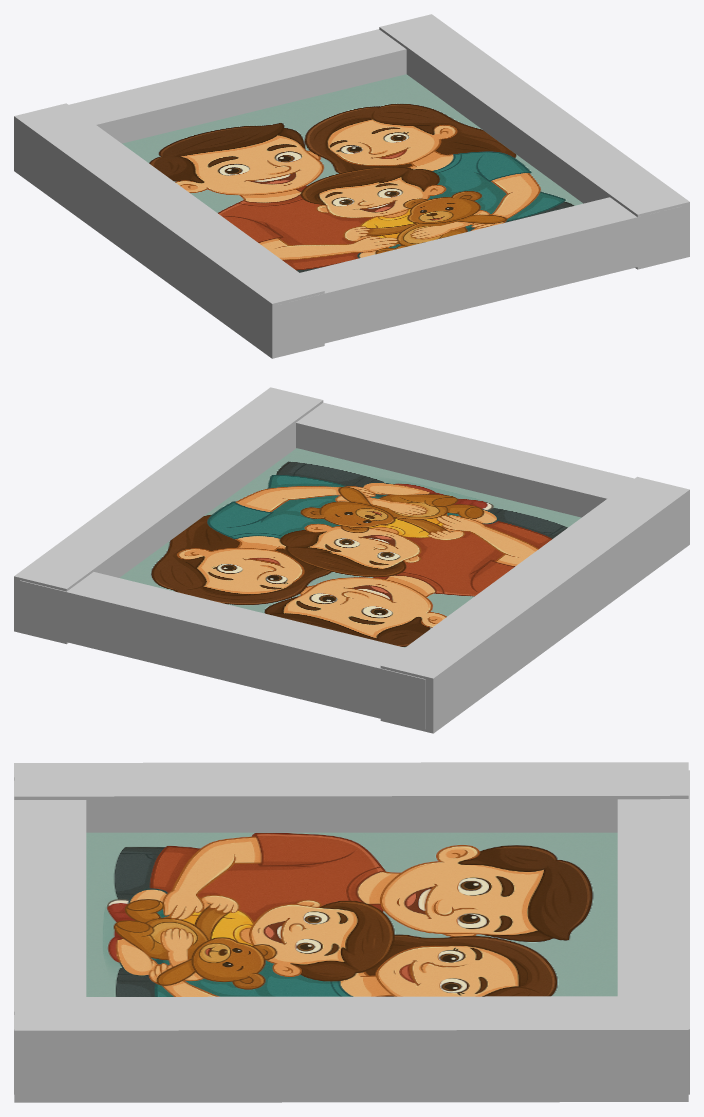
File: Familia.fbx
3 renders of one model, top to bottom at view 1: azimuth 30°, elevation 25°; view 2: azimuth 150°, elevation 25°; view 3: azimuth 270°, elevation 25°, orthographic. The views are drawn at different scales.
Parts seen in each view (by area): view 1: Cube.003, Plane; view 2: Cube.003, Plane; view 3: Cube.003, Plane.
Part boxes in pixels (box(x1,y1,x2,y2)): Cube.003: box(14, 14, 689, 358); Plane: box(122, 74, 582, 272); Cube.003: box(14, 387, 689, 733); Plane: box(119, 448, 581, 647); Cube.003: box(14, 762, 689, 1102); Plane: box(86, 832, 617, 996).
Bounding box in the file's own units: 8780 × 1100 × 9342.
Materials: 1 (1 with a texture image).
